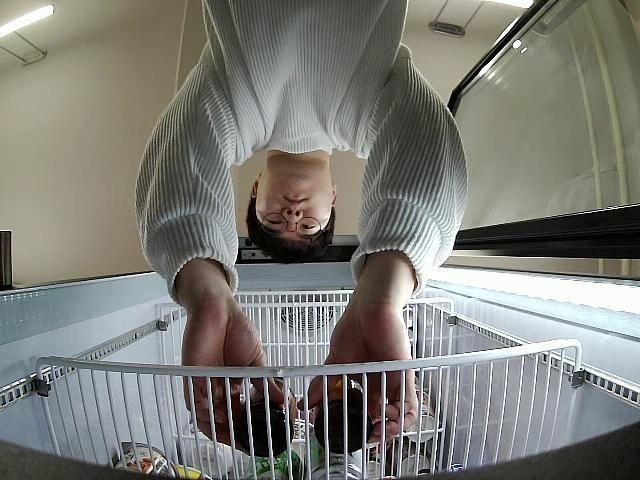17_vita500: (313, 374, 374, 454), (235, 379, 294, 457)
